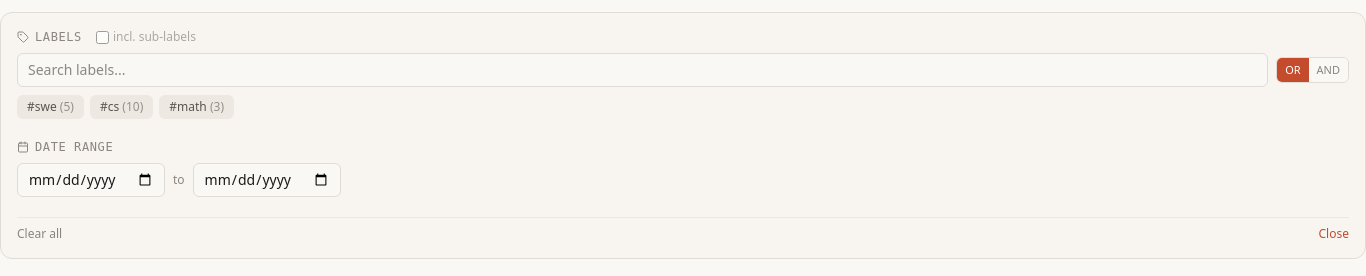
FilterPanel › filters labels by name case-insensitively
Expected: the button "#swe (5)" is shown, [17, 95, 84, 119]
Type "Software" into the field with placeholder "Search labels..." at (643, 70), box [17, 53, 1268, 87]
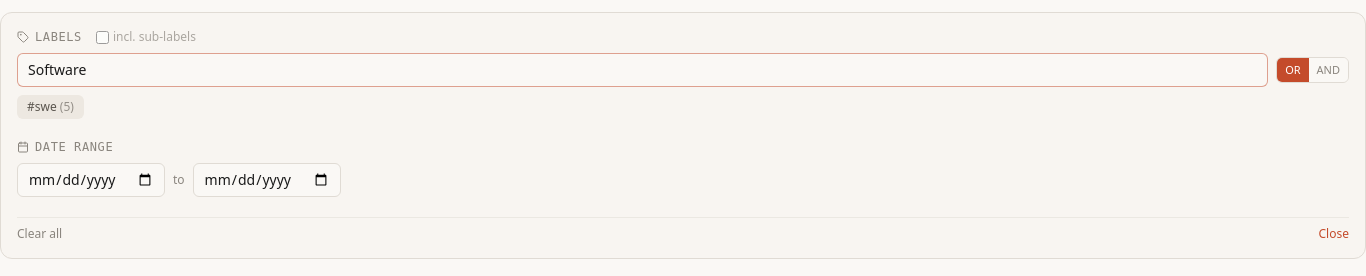
Expected: the button "#swe (5)" is shown, [17, 95, 84, 119]
Now the button "#math" is gone
